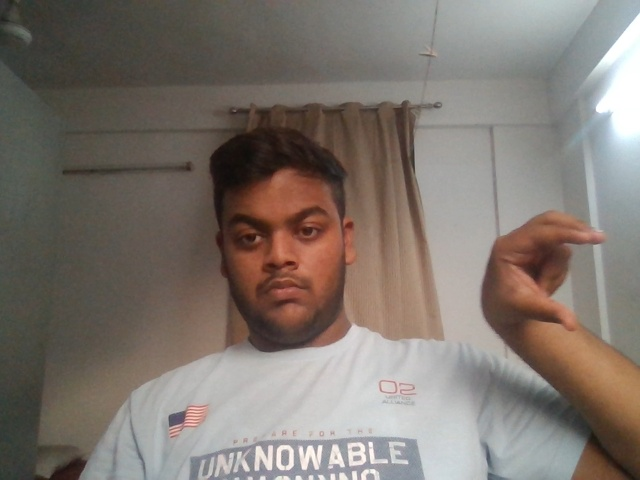No: (459, 181, 630, 391)
